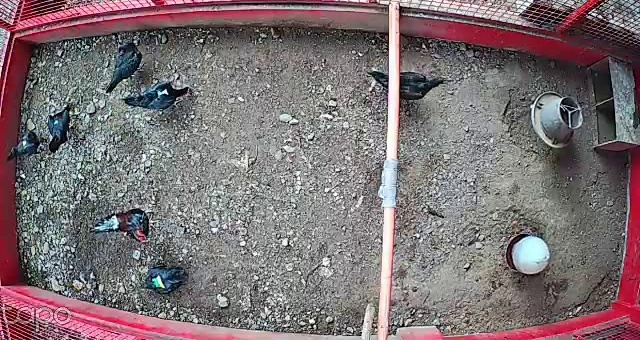Chicken: (362, 63, 446, 107), (102, 37, 149, 96), (123, 76, 194, 113), (45, 98, 78, 155), (138, 264, 190, 300), (6, 127, 41, 166)
Rooster: (90, 205, 157, 248)
Saddle_Color_Blue: (54, 120, 60, 124)
Saddle_Color_White: (163, 88, 168, 95)
Saddle_Color_Yellow: (22, 138, 27, 150)
Saddle_Color_YellowGreen: (152, 274, 165, 289)
